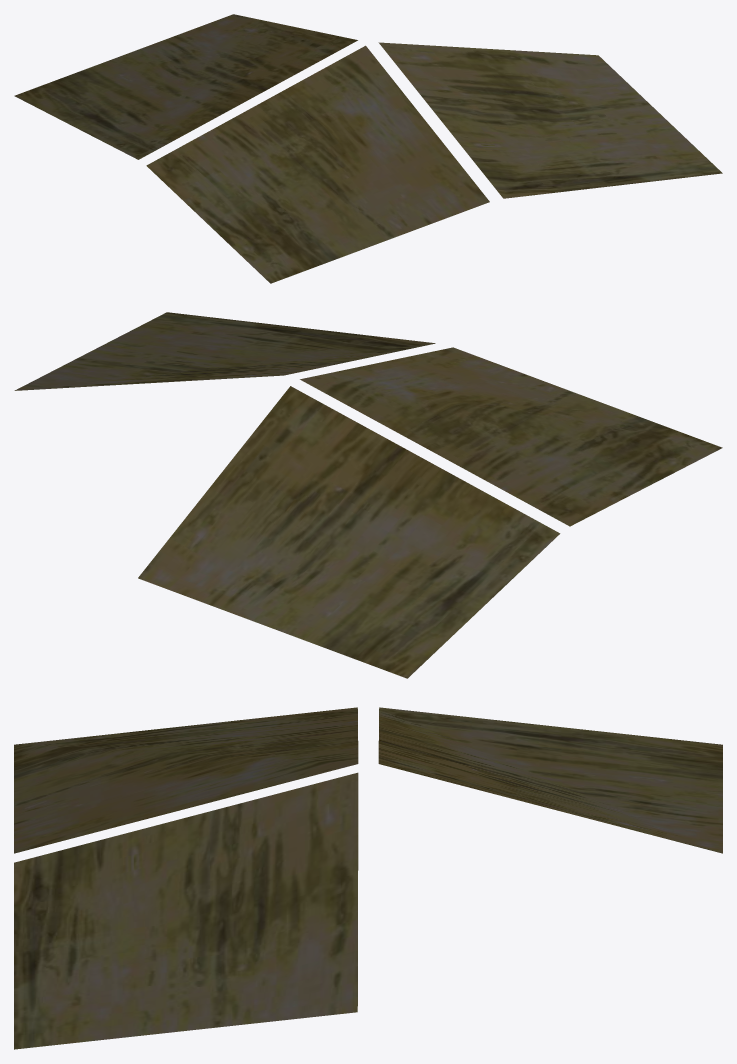
The model's file is BathroomWindow1.fbx.
3 renders of one model, top to bottom at view 1: azimuth 30°, elevation 25°; view 2: azimuth 150°, elevation 25°; view 3: azimuth 270°, elevation 25°, orthographic. The views are drawn at different scales.
Parts seen in each view (by area): view 1: Bathroom-windows1; view 2: Bathroom-windows1; view 3: Bathroom-windows1.
Boxes of the visible parts, box(x1,y1,x2,y2) form: Bathroom-windows1: box(14, 14, 722, 283); Bathroom-windows1: box(14, 312, 722, 678); Bathroom-windows1: box(14, 707, 722, 1049).
Size of the model in its own units: 96.67 by 19.06 by 95.
Materials: 1 (1 with a texture image).
